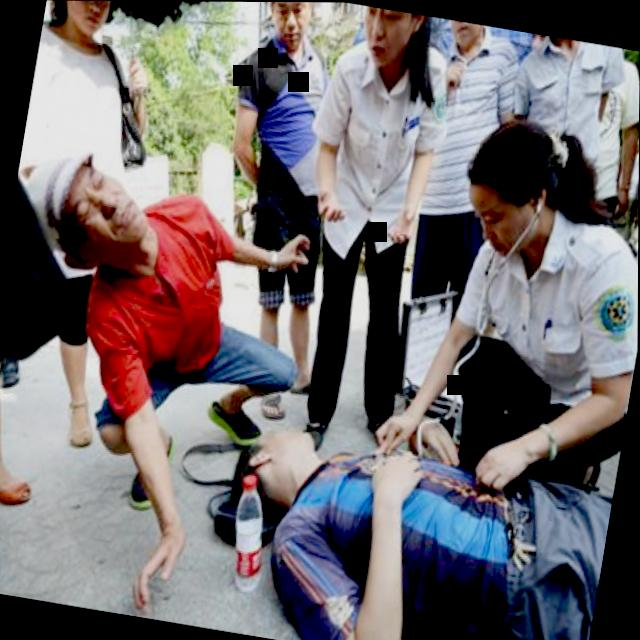Fall-Detected: (205, 374, 624, 640)
